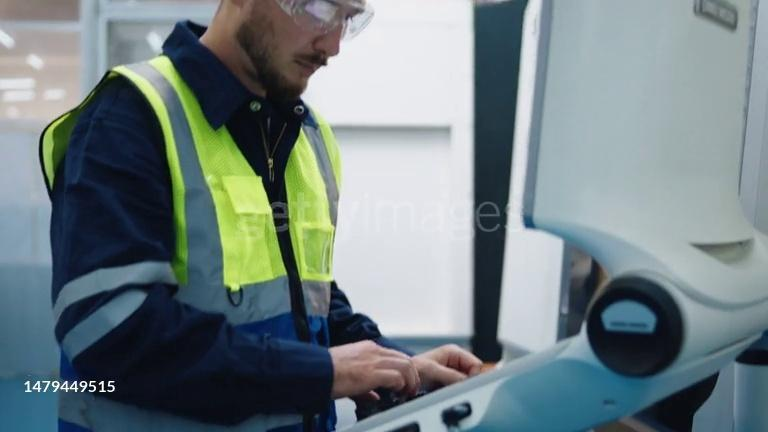person: (36, 0, 486, 432)
